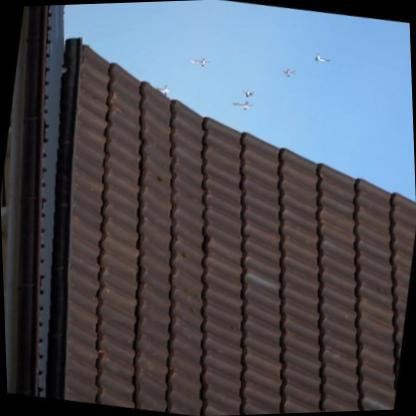bird: (230, 98, 255, 114), (149, 82, 172, 98), (188, 56, 212, 69), (313, 52, 333, 66), (240, 86, 256, 100), (280, 66, 296, 79)
